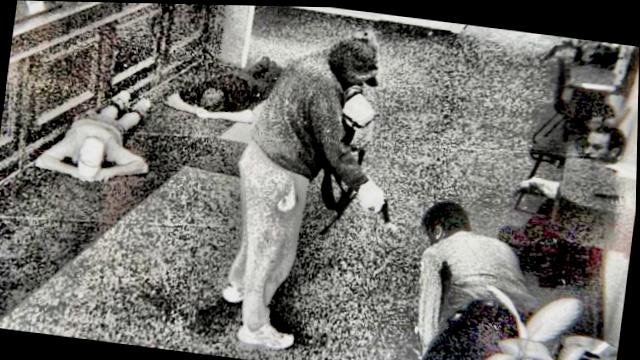pistol: (364, 173, 409, 236)
